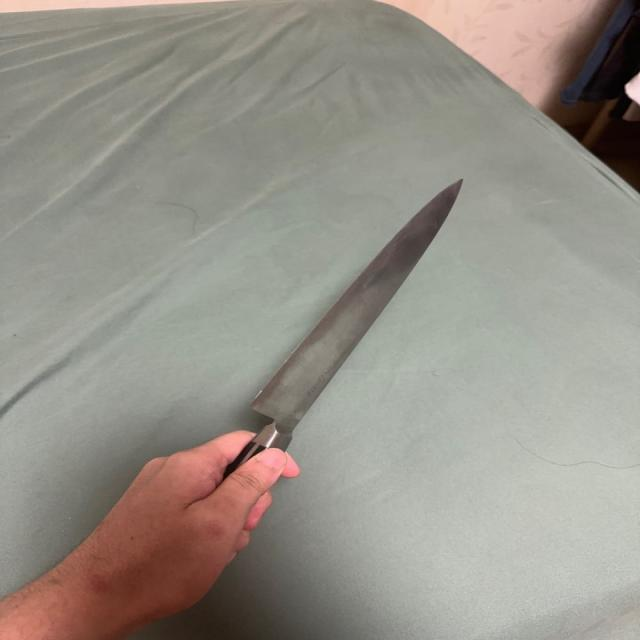knife: (220, 168, 476, 477)
